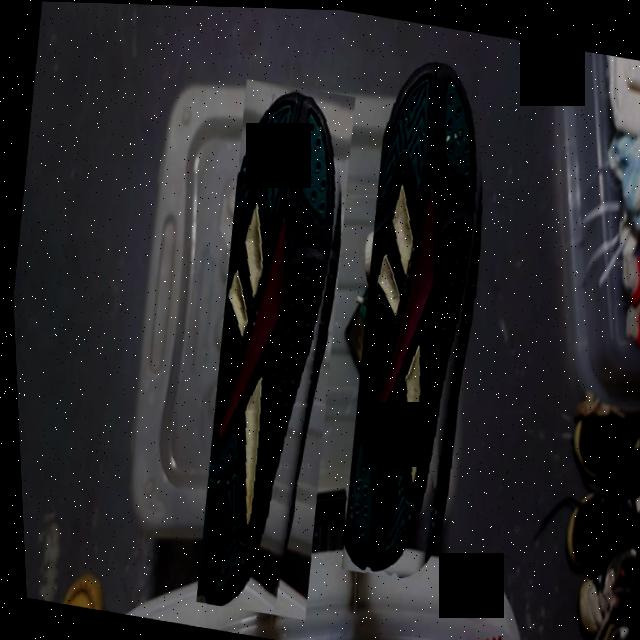shoe: (173, 76, 373, 620), (318, 50, 517, 588)
